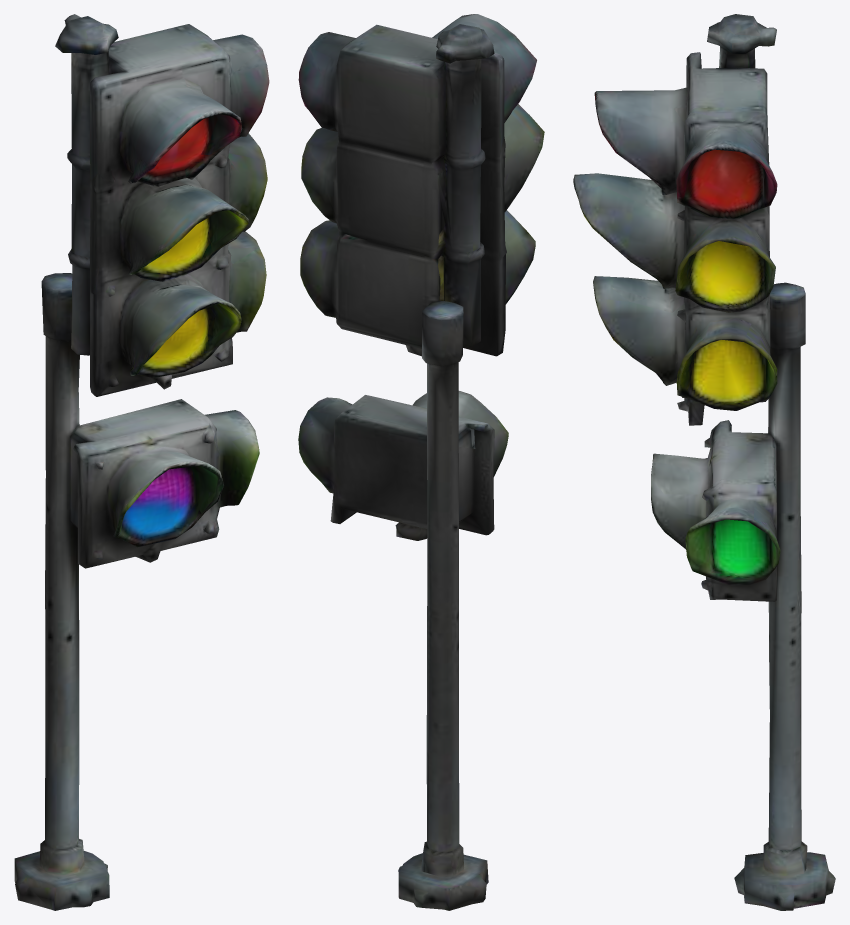
Rendered from traffic_signal.glb.
3 renders of one model, left to right at view 1: azimuth 30°, elevation 25°; view 2: azimuth 150°, elevation 25°; view 3: azimuth 270°, elevation 25°, orthographic. The views are drawn at different scales.
Visible parts, largest first — view 1: traffic_signal; view 2: traffic_signal; view 3: traffic_signal.
Boxes of the visible parts, x1,y1,x2,y2 form: traffic_signal: (14,14,269,910); traffic_signal: (298,14,544,910); traffic_signal: (573,14,835,910).
Size of the model in its own units: 1.34 by 5.5 by 1.5.
1 material, 1 textured.
